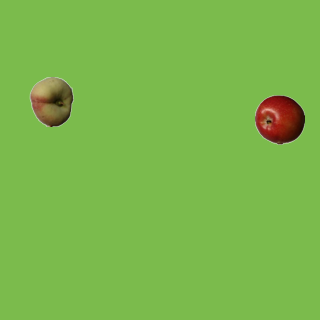Apple Braeburn: (254, 94, 304, 144)
Peach Flat: (26, 76, 76, 126)
